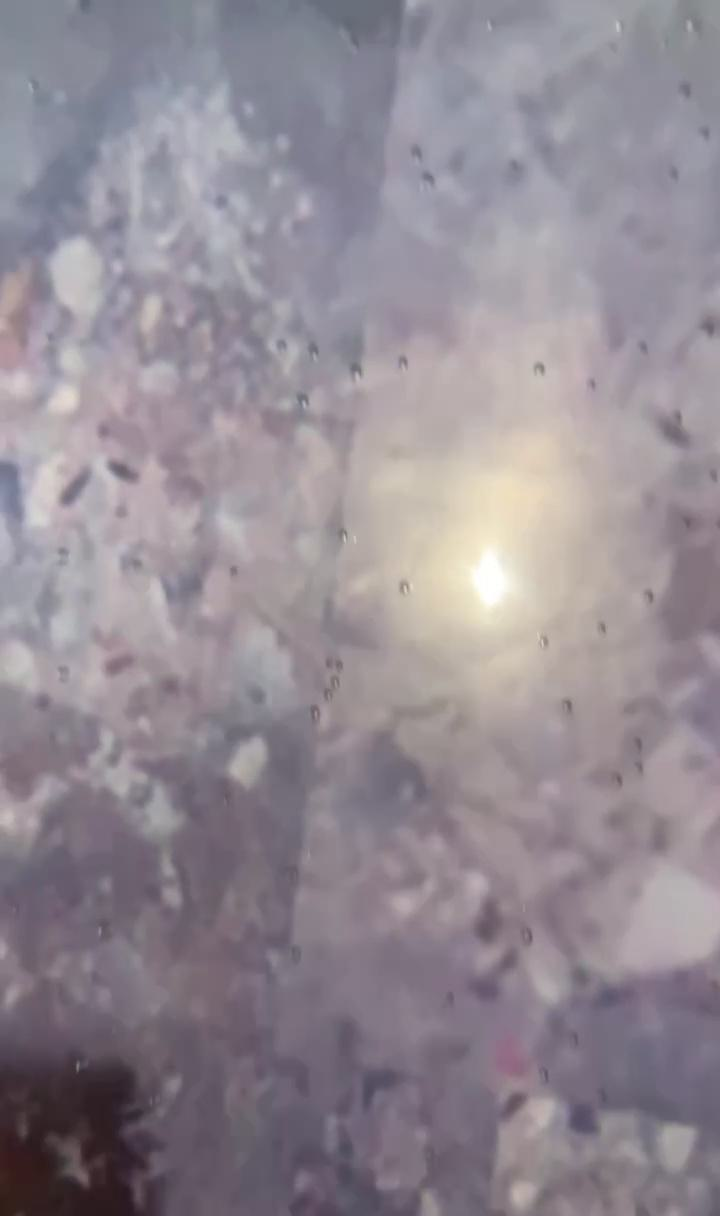Corrosion: (1, 1053, 174, 1216)
